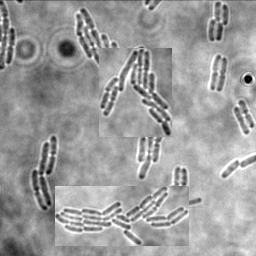Dividing: (238, 99, 255, 128), (209, 54, 222, 90), (128, 188, 162, 201), (217, 56, 228, 92), (167, 197, 203, 208), (7, 27, 17, 64), (175, 167, 189, 185)
Microcolony: (55, 186, 189, 246), (99, 48, 172, 137), (76, 7, 147, 98), (32, 135, 57, 211), (137, 137, 168, 180), (208, 1, 229, 42)
Rod: (233, 106, 251, 135), (222, 157, 240, 178), (174, 166, 183, 185)
